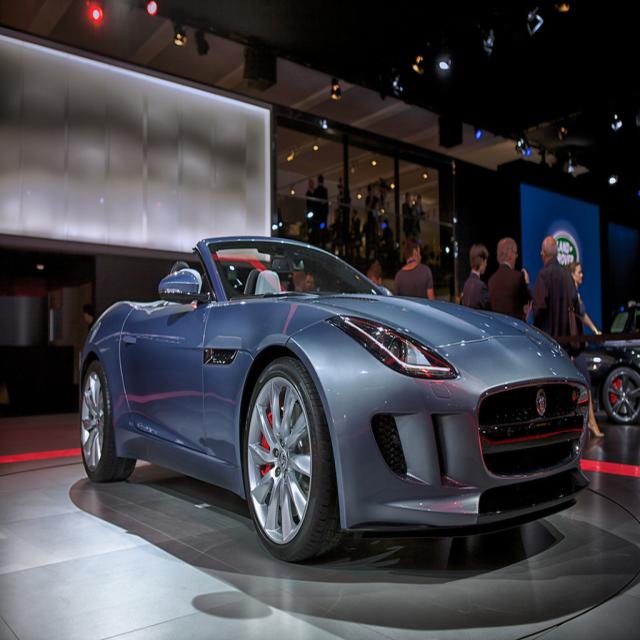car: (78, 234, 597, 559)
